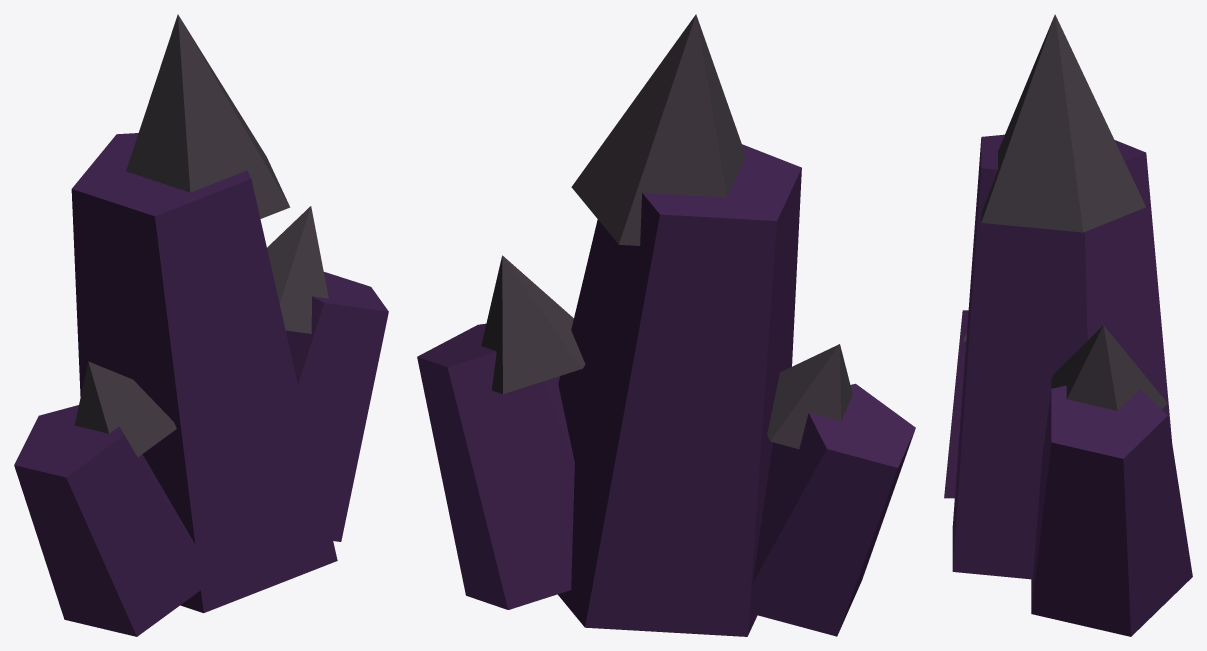
Rendered from lava_obsidiana.obj.
3 renders of one model, left to right at view 1: azimuth 30°, elevation 25°; view 2: azimuth 150°, elevation 25°; view 3: azimuth 270°, elevation 25°, orthographic. The views are drawn at different scales.
Visible parts, largest first — view 1: lava_obsidiana; view 2: lava_obsidiana; view 3: lava_obsidiana.
Boxes of the visible parts, x1=… form: lava_obsidiana: x1=14, y1=14, x2=388, y2=636; lava_obsidiana: x1=417, y1=14, x2=915, y2=636; lava_obsidiana: x1=944, y1=14, x2=1192, y2=636.
Size of the model in its own units: 1.2 by 1.6 by 0.668.
